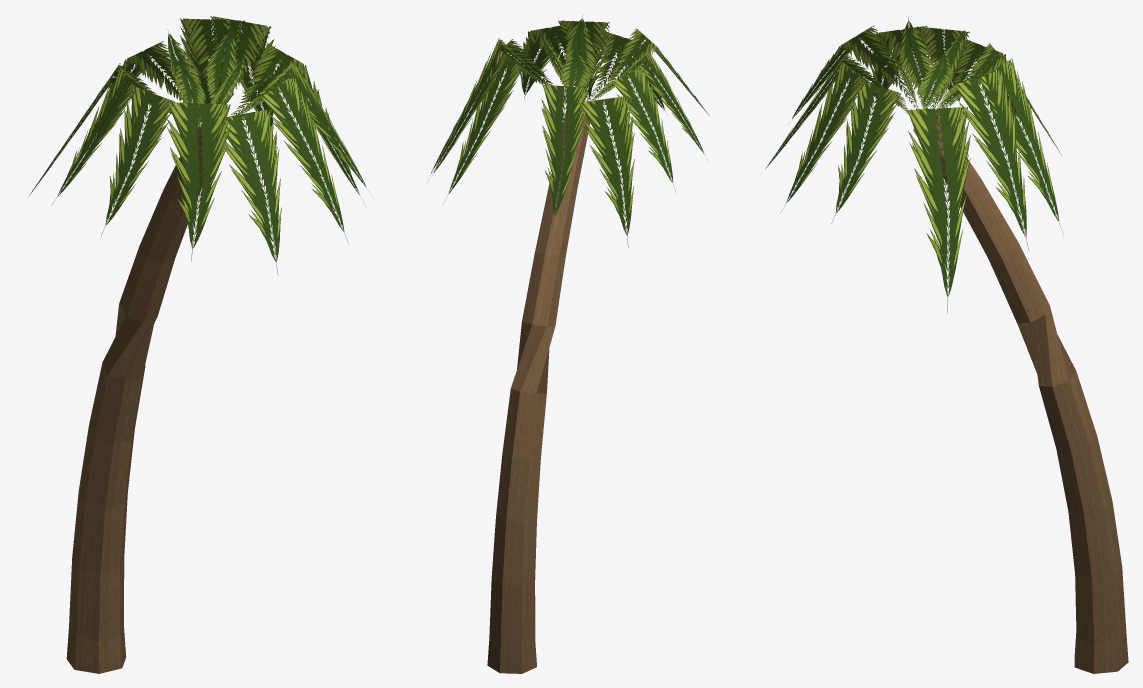
The model's file is palm_b.glb.
The picture shows the model from 3 angles, left to right: view 1: azimuth 30°, elevation 25°; view 2: azimuth 150°, elevation 25°; view 3: azimuth 270°, elevation 25°; orthographic projection. The views are drawn at different scales.
Visible parts, largest first — view 1: palm_b; view 2: palm_b; view 3: palm_b.
Part boxes in pixels (x1,y1,x2,y2): palm_b: (28,16,368,673); palm_b: (428,15,709,673); palm_b: (765,17,1128,673).
Size of the model in its own units: 3.11 by 6.41 by 3.41.
2 materials, 2 textured.
